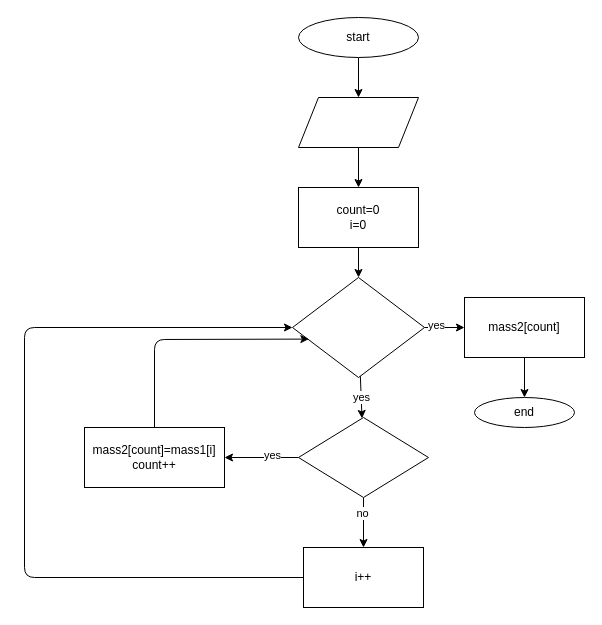
Image size: 602x625. Some labels were removed from this diagram. The shapes that lost their labels are listed below. From the top down, each one's box as (x1, y1, x2, y2) in pixels, then its label:
(298, 96, 418, 148): mass1 mass2
(292, 276, 424, 378): i< mass1.Length
(298, 416, 428, 498): mass1[i]. Length<=3
